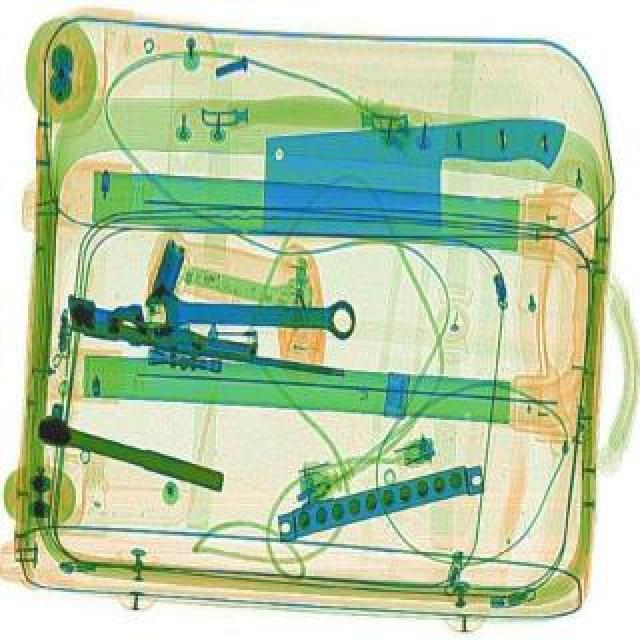gun: (62, 290, 350, 392)
knife: (256, 118, 568, 236)
scissors: (142, 286, 356, 342)
